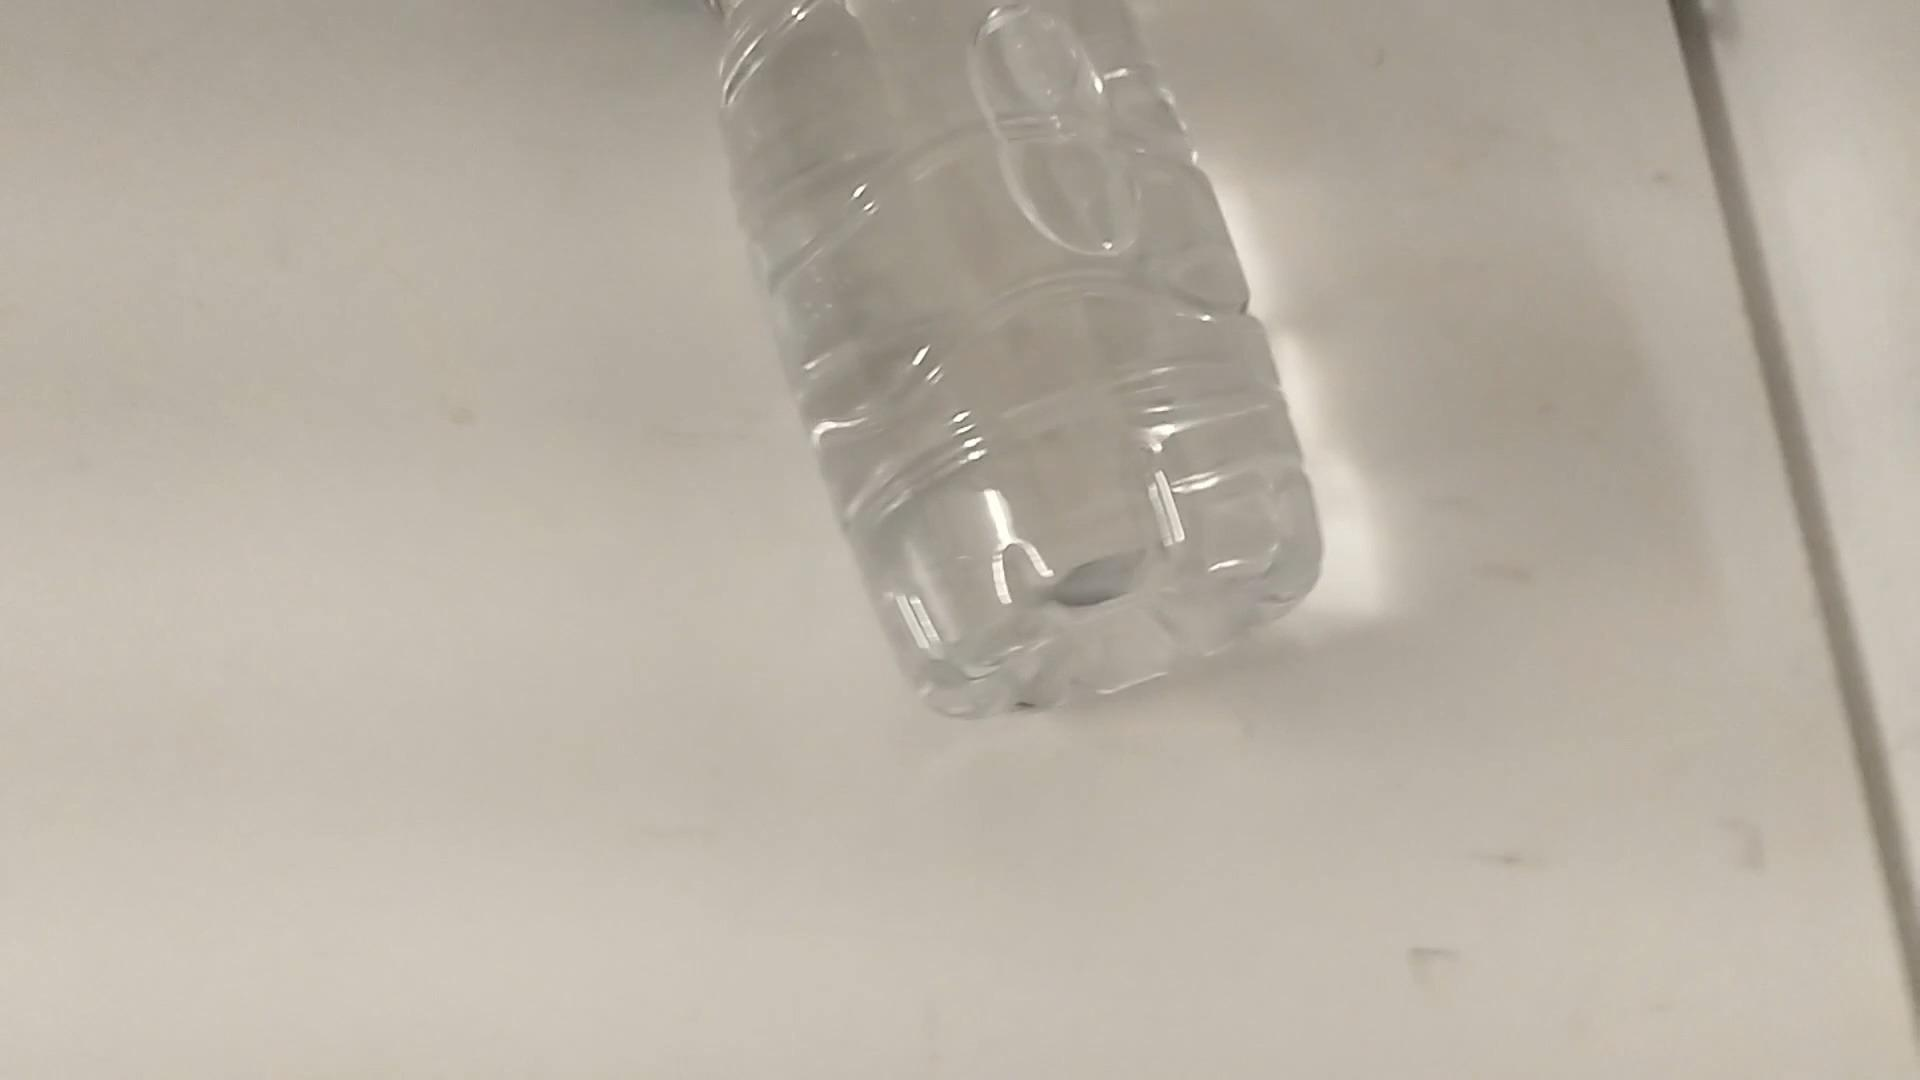agua: (615, 0, 1313, 716)
